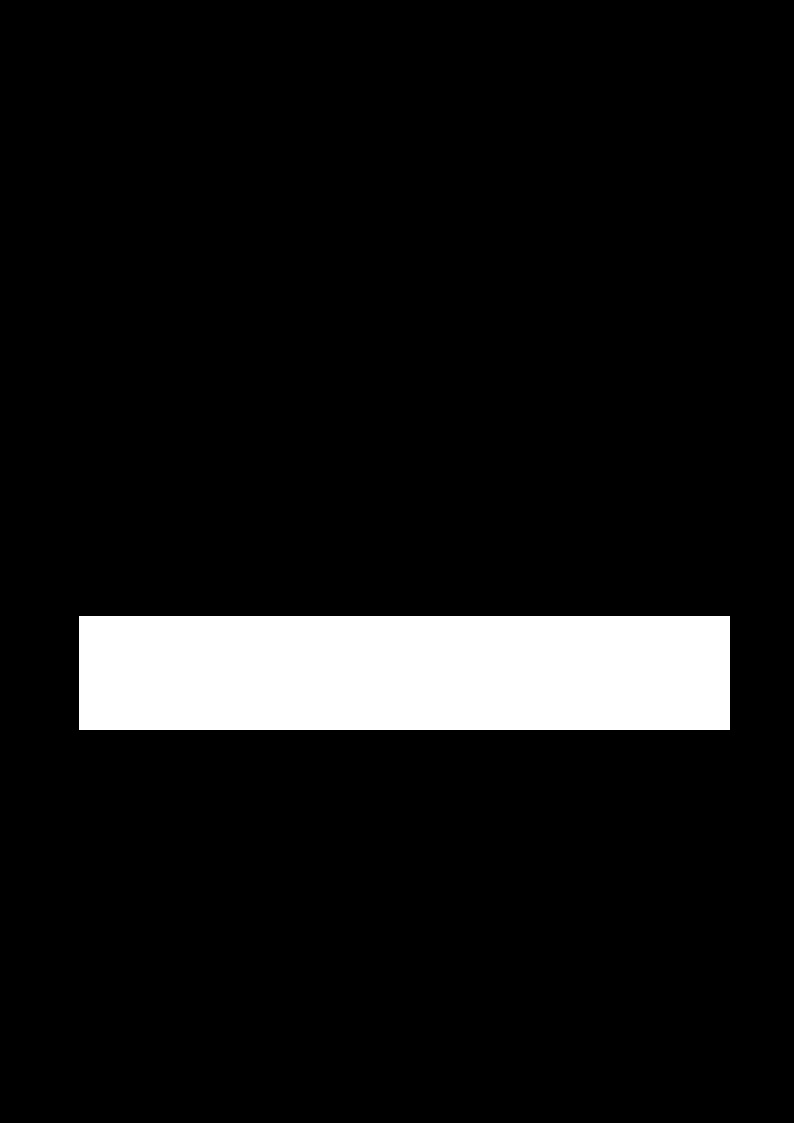table: (79, 616, 729, 729)
